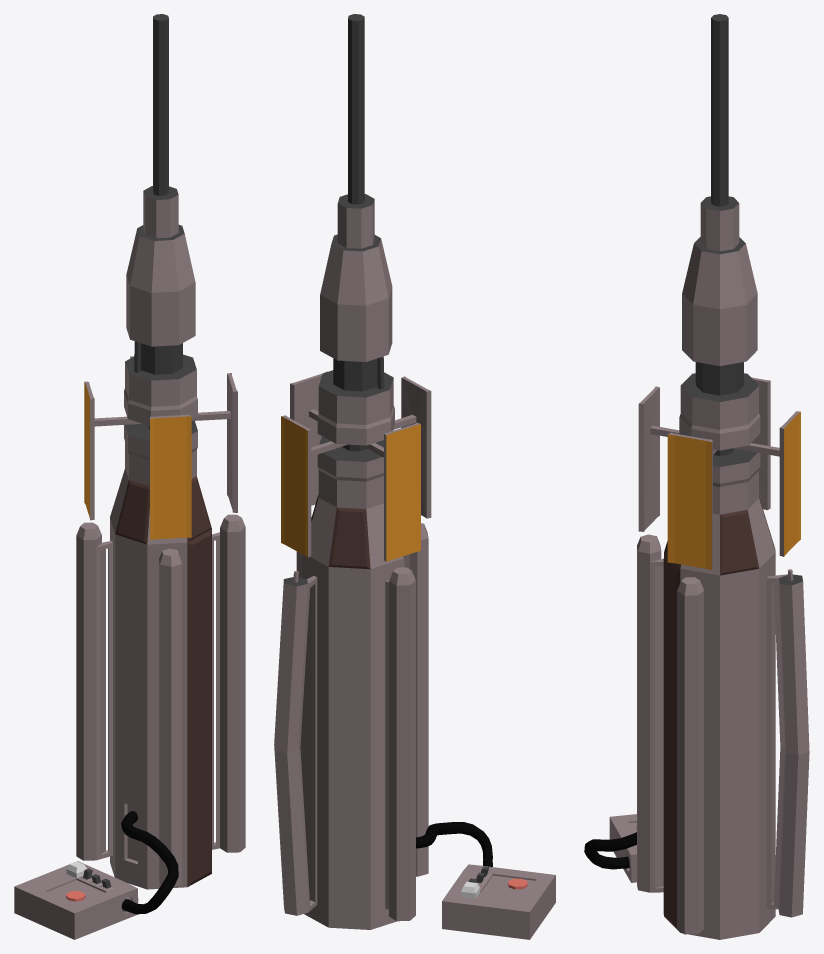
Rendered from Tower.fbx.
3 renders of one model, left to right at view 1: azimuth 30°, elevation 25°; view 2: azimuth 150°, elevation 25°; view 3: azimuth 270°, elevation 25°, orthographic. The views are drawn at different scales.
Visible parts, largest first — view 1: Cube.001, Cube.002, Cube.005, Cube.004, Cube.003; view 2: Cube.001, Cube.004, Cube.005, Cube.002, Cube.003; view 3: Cube.001, Cube.004, Cube.002, Cube.005, Cube.003.
Boxes of the visible parts, bbox=[...] form: Cube.001: bbox=[14, 191, 245, 939]; Cube.002: bbox=[115, 476, 211, 886]; Cube.005: bbox=[125, 14, 197, 441]; Cube.004: bbox=[84, 382, 191, 539]; Cube.003: bbox=[121, 811, 178, 914]; Cube.001: bbox=[274, 200, 555, 939]; Cube.004: bbox=[281, 416, 420, 561]; Cube.005: bbox=[284, 14, 393, 586]; Cube.002: bbox=[311, 494, 404, 569]; Cube.003: bbox=[416, 822, 492, 866]; Cube.001: bbox=[609, 203, 809, 939]; Cube.004: bbox=[667, 412, 800, 569]; Cube.002: bbox=[663, 498, 775, 932]; Cube.005: bbox=[681, 14, 802, 585]; Cube.003: bbox=[584, 832, 636, 869].
Size of the model in its own units: 591 by 2141 by 486.
